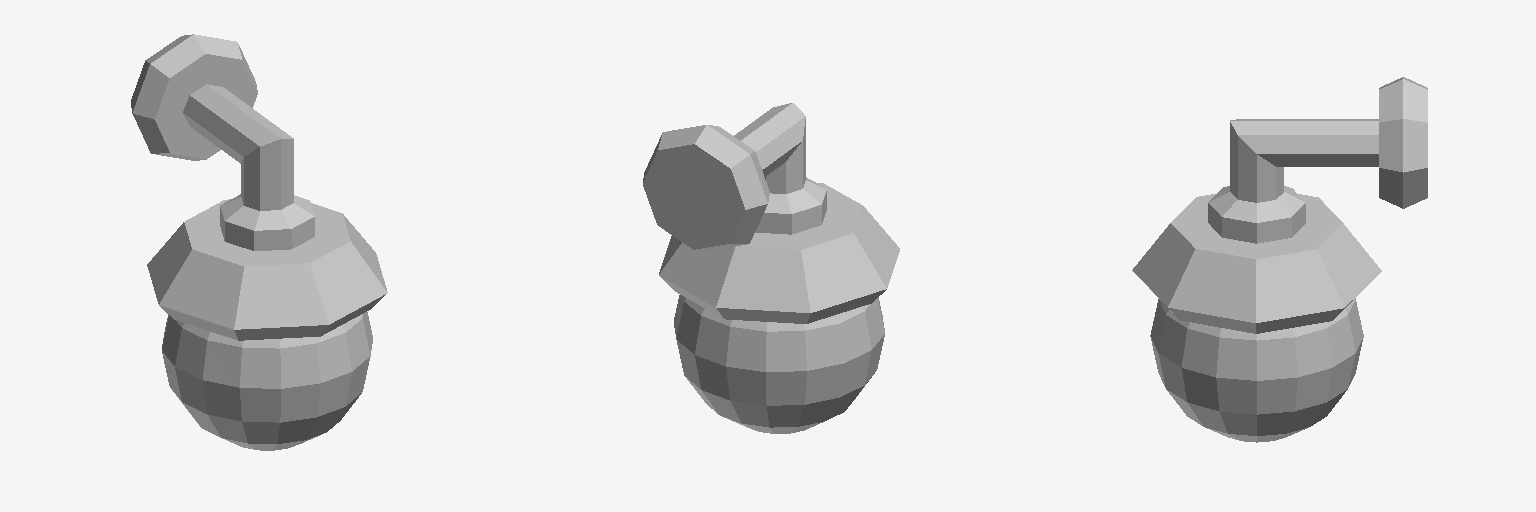
The model's file is wall_lantern.obj.
3 views of the same model, side by side, from view 1: azimuth 30°, elevation 25°; view 2: azimuth 150°, elevation 25°; view 3: azimuth 270°, elevation 25° (orthographic).
Visible parts, largest first — view 1: wall_lantern; view 2: wall_lantern; view 3: wall_lantern.
Boxes of the visible parts, box(x1,y1,x2,y2) form: wall_lantern: box(131, 34, 387, 450); wall_lantern: box(643, 103, 899, 433); wall_lantern: box(1132, 77, 1427, 442).
Bounding box in the file's own units: 0.5122 × 0.7991 × 0.6061.